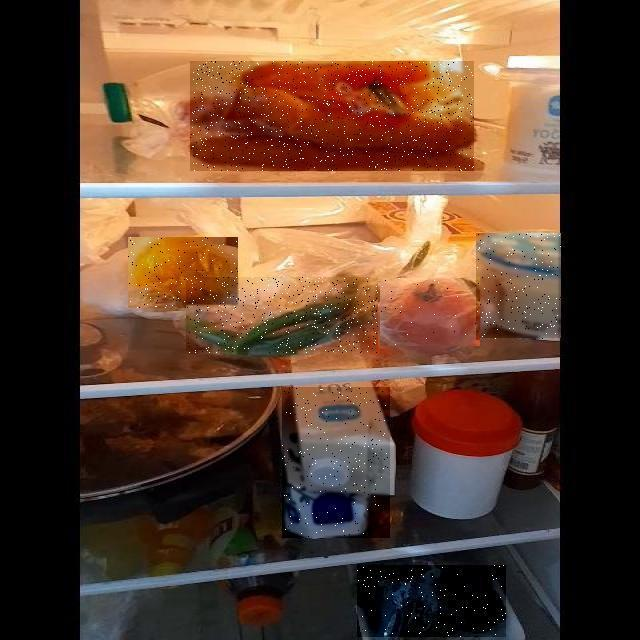Broccoli: (357, 565, 506, 637)
Carrot: (191, 61, 475, 171)
Chillies: (186, 278, 378, 354)
Lemon: (128, 237, 238, 308)
Milk: (282, 387, 390, 538)
Tomato Paste: (380, 278, 480, 346)
Yoghurt: (476, 234, 561, 340)
